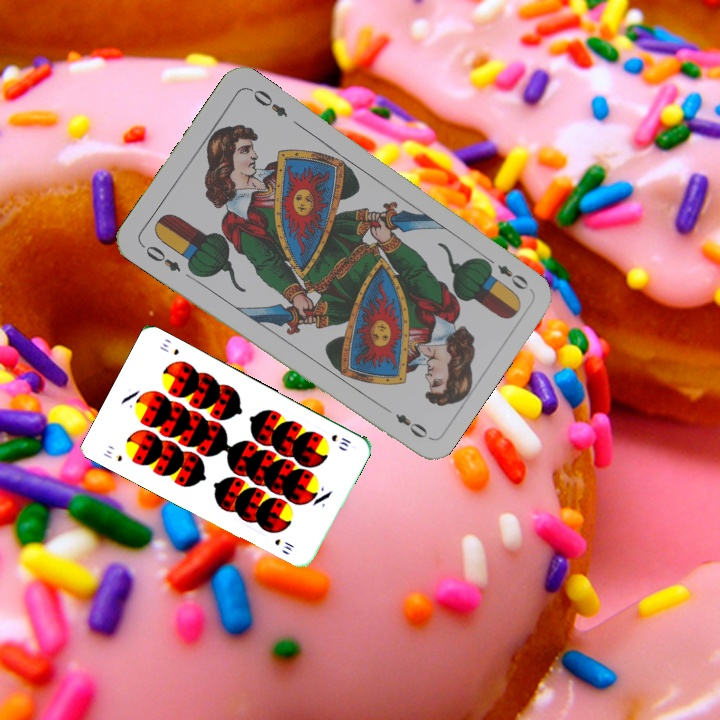EO: (479, 252, 532, 293), (137, 240, 184, 275)
S10: (327, 430, 354, 450), (99, 446, 125, 464)
